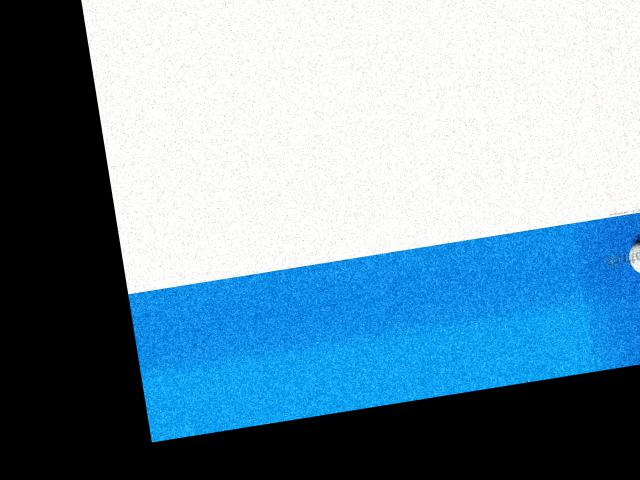egg: (627, 240, 640, 275)
